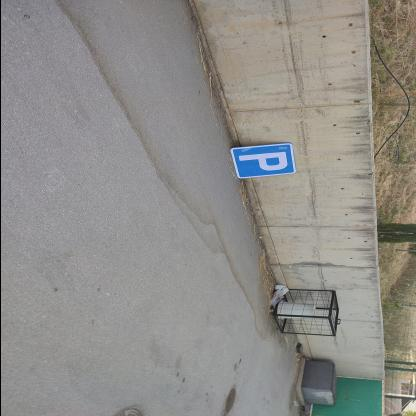Parking-Sign: (228, 142, 298, 181)
